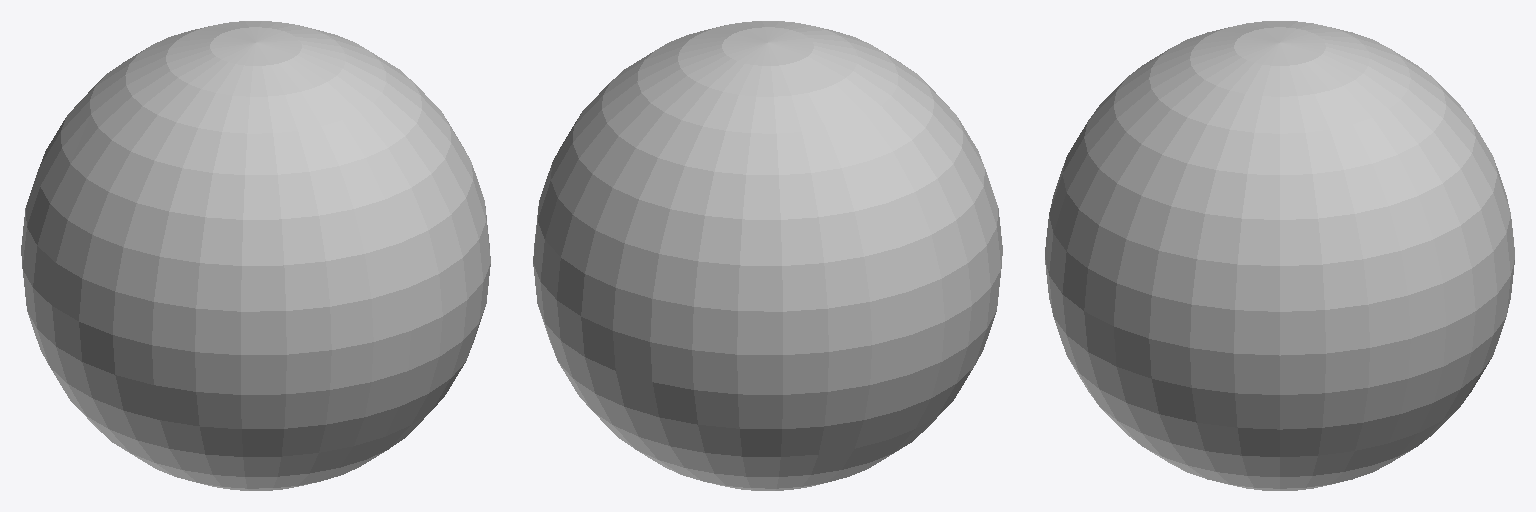
The model's file is planet.obj.
The picture shows the model from 3 angles: view 1: azimuth 30°, elevation 25°; view 2: azimuth 150°, elevation 25°; view 3: azimuth 270°, elevation 25°; orthographic projection.
Visible parts, largest first — view 1: Sphere; view 2: Sphere; view 3: Sphere.
Part boxes in pixels (x1,y1,x2,y2): Sphere: (21,21,490,490); Sphere: (533,21,1002,490); Sphere: (1045,21,1514,490).
Bounding box in the file's own units: 0.2 × 0.2 × 0.2.